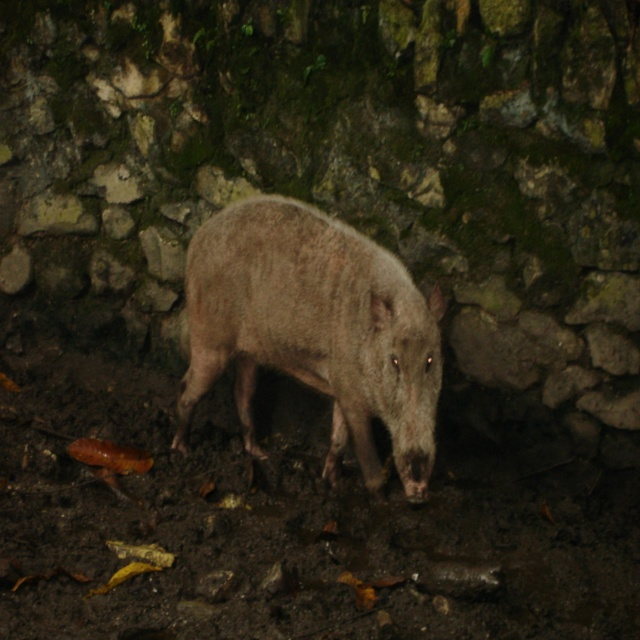Pig: (172, 193, 452, 509)
